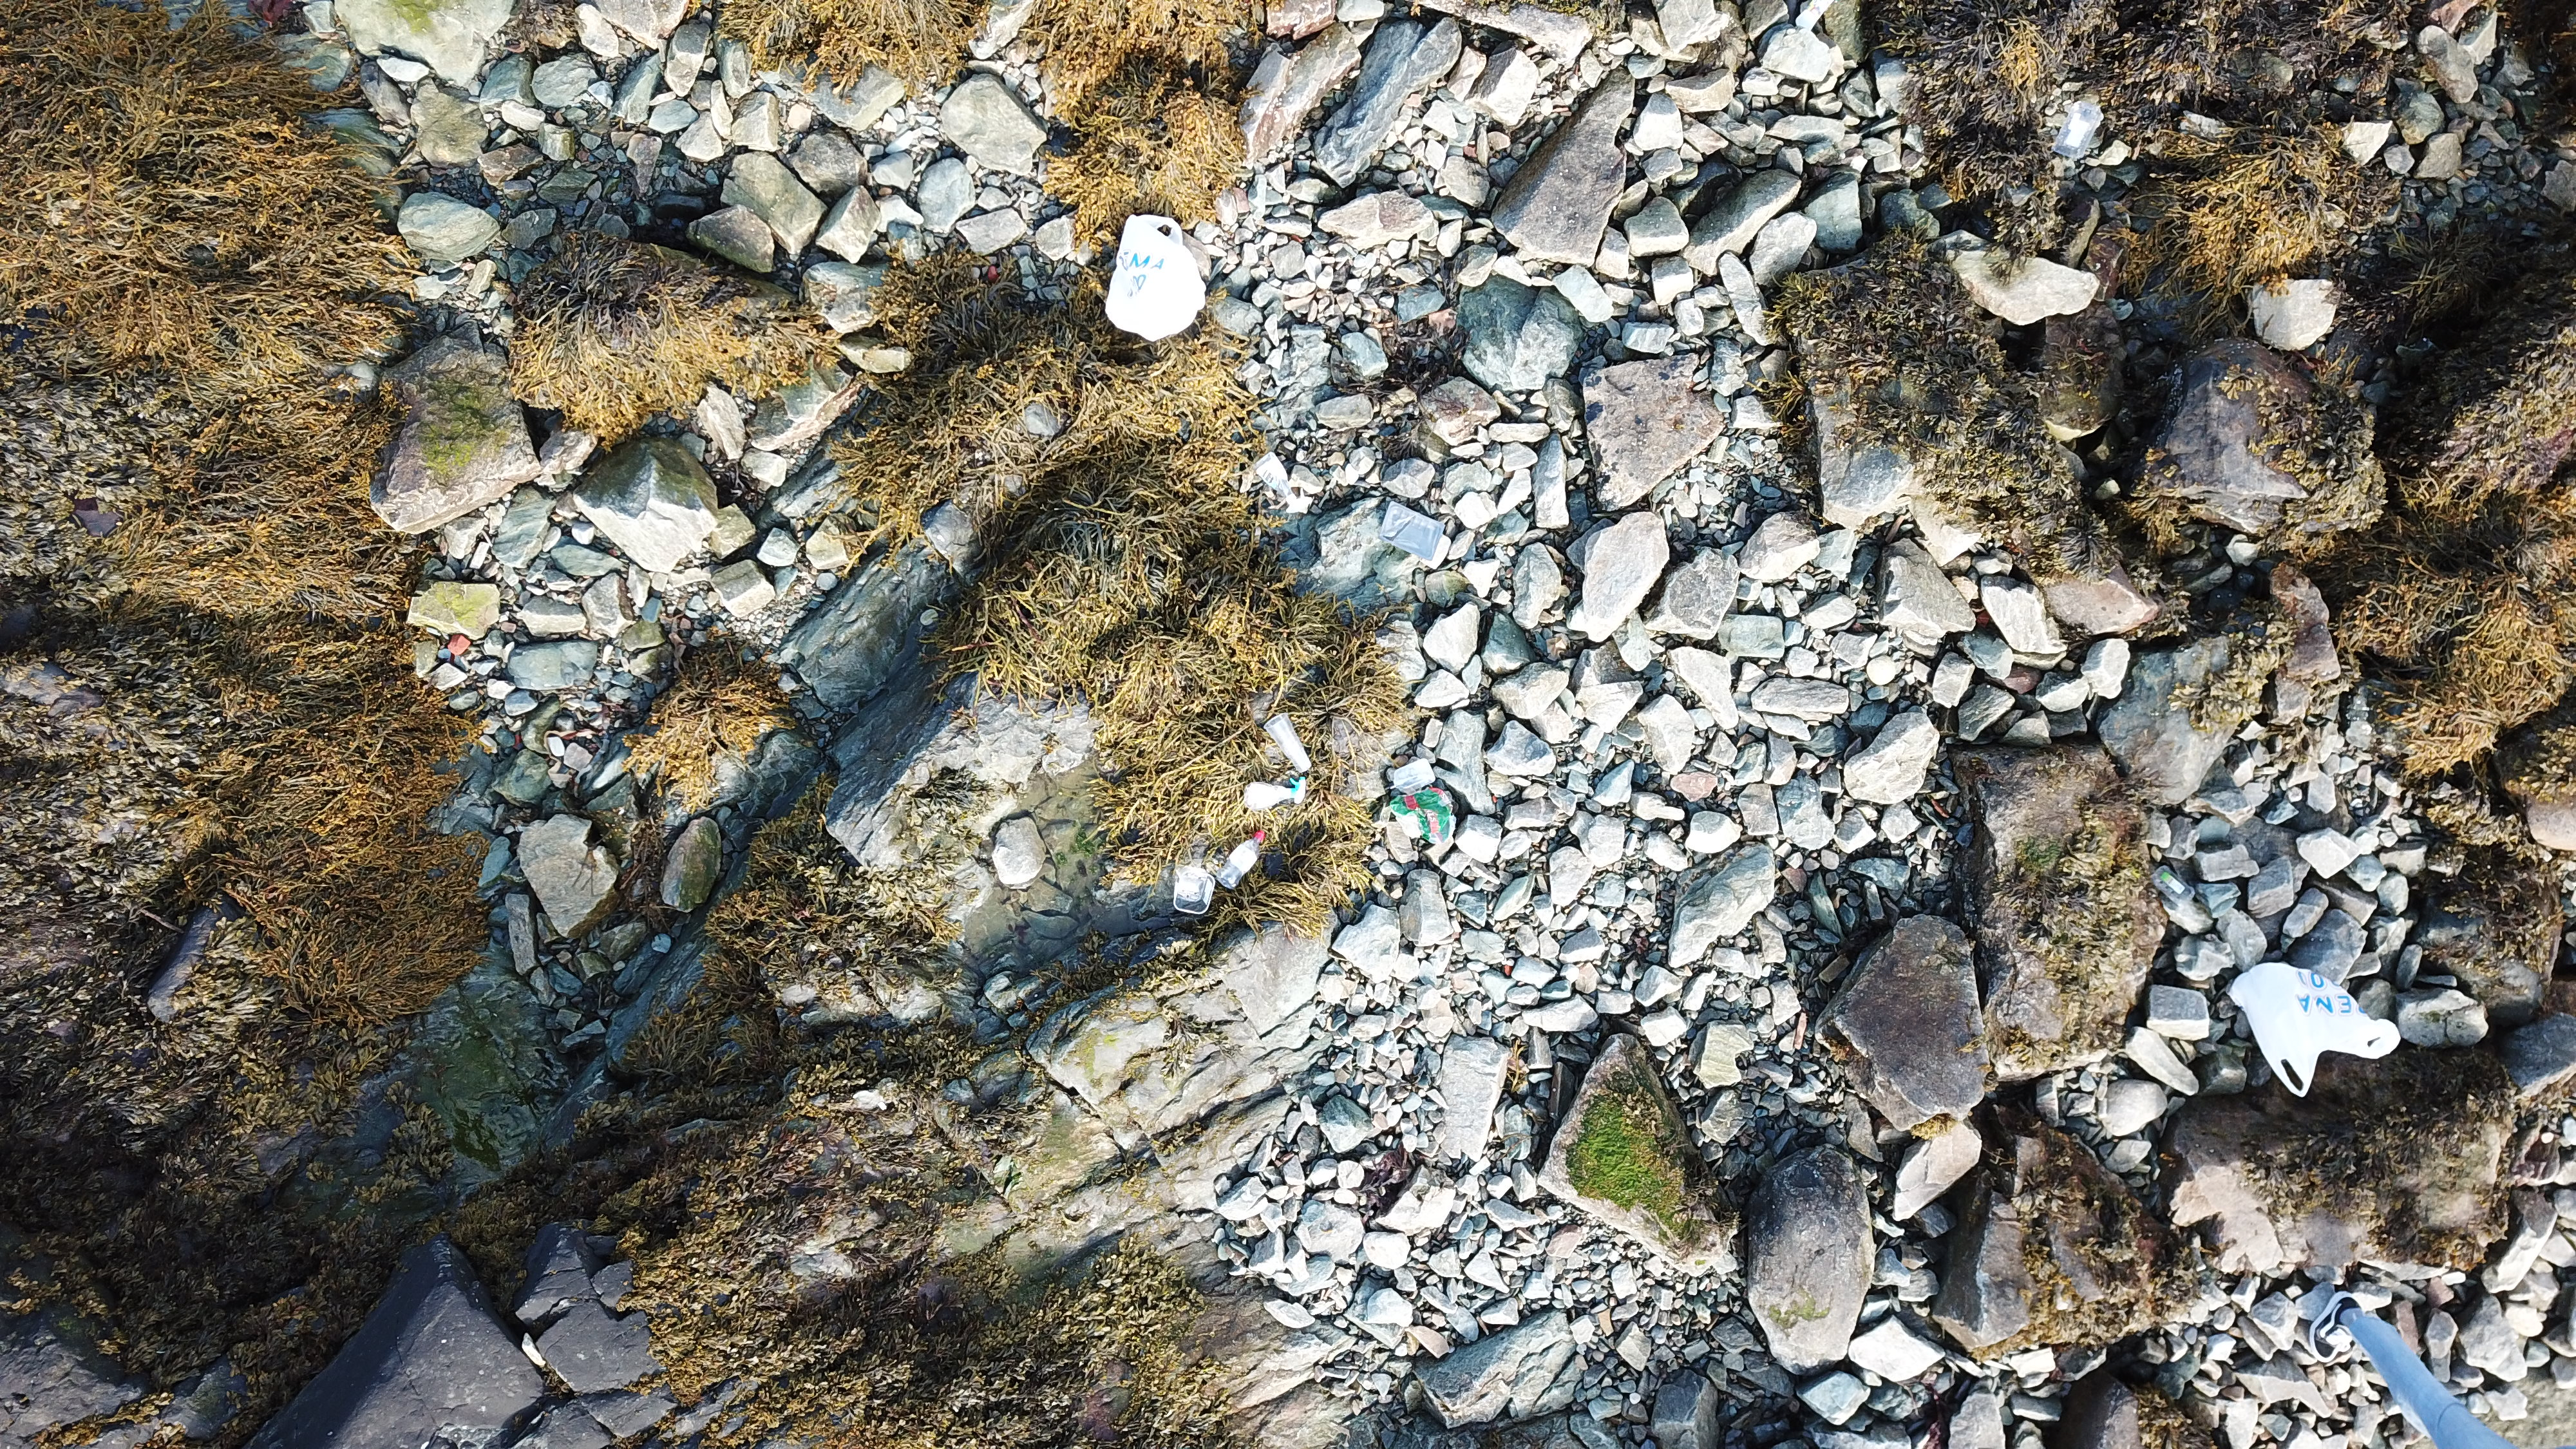Plastic: (2236, 961, 2403, 1097), (1106, 212, 1207, 343), (1254, 449, 1315, 517), (1382, 501, 1445, 563), (1389, 791, 1454, 847), (1265, 709, 1315, 773), (2052, 99, 2102, 161), (1242, 771, 1307, 810), (2150, 863, 2199, 909), (1173, 865, 1217, 916), (1385, 757, 1437, 800)
PlasticBottle: (1215, 828, 1267, 886)
